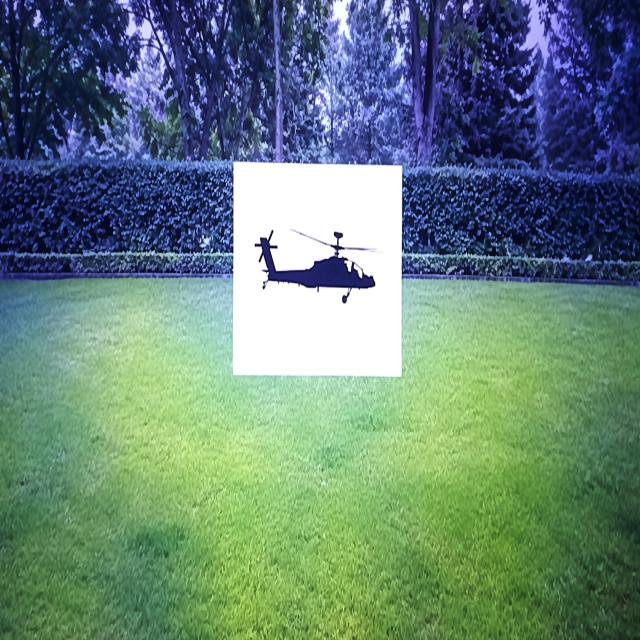Apache friendly: (255, 230, 375, 302)
